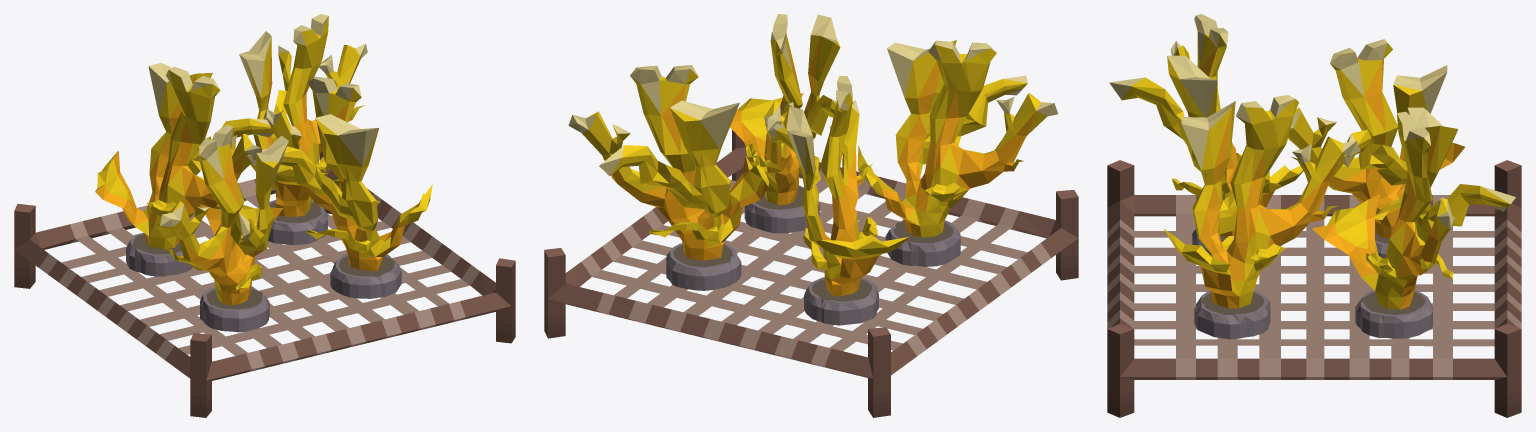
Rendered from coral-nursery.gltf.
3 renders of one model, left to right at view 1: azimuth 30°, elevation 25°; view 2: azimuth 150°, elevation 25°; view 3: azimuth 270°, elevation 25°, orthographic. The views are drawn at different scales.
Size of the model in its own units: 234 by 157 by 229.
1 material, 1 textured.
